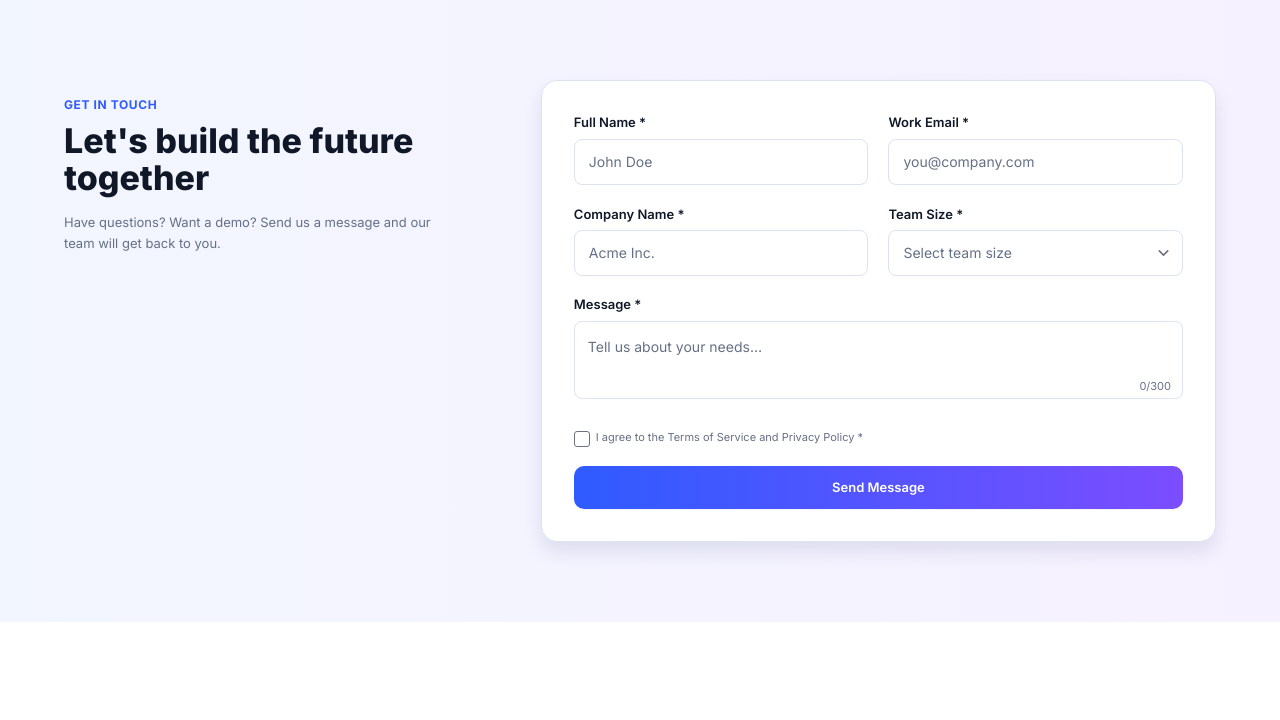
Scenario: Contact › validation › shows an error once a field is left empty, before submitting
The width and height of the screenshot is (1280, 720).
Click the field labelled "Full Name".
click(721, 162)  # box [574, 138, 868, 184]
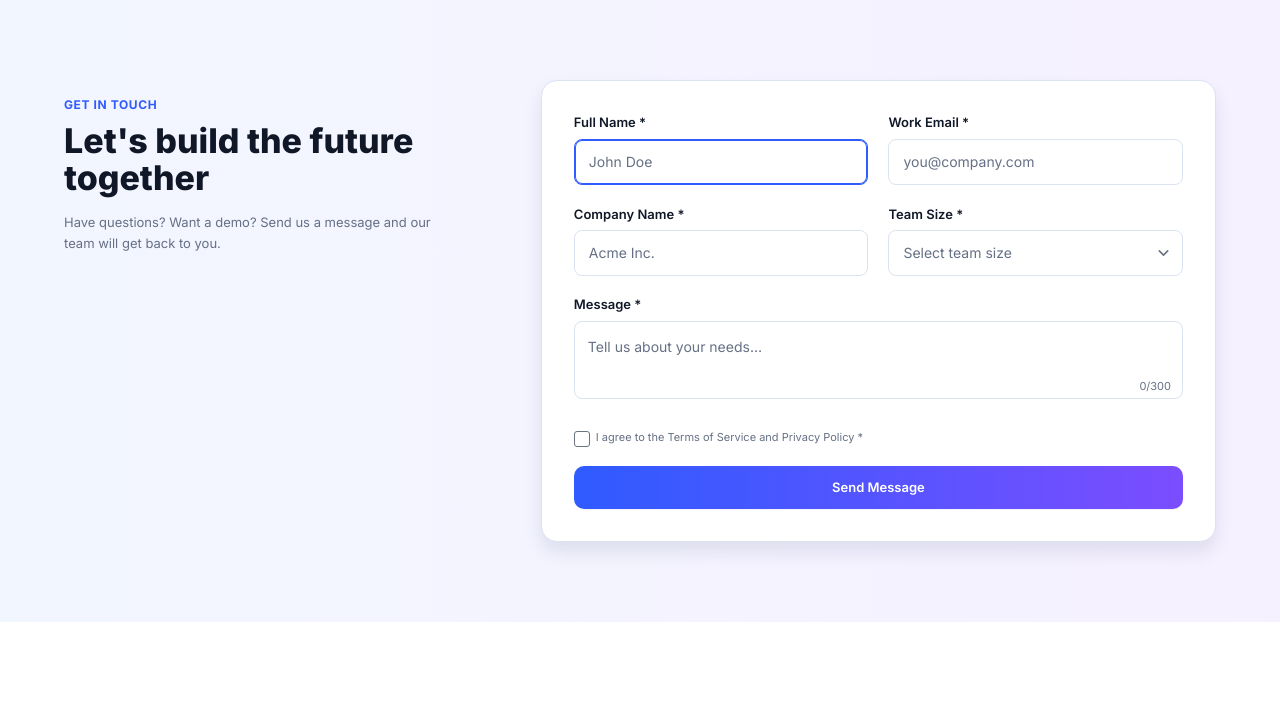
Press Tab
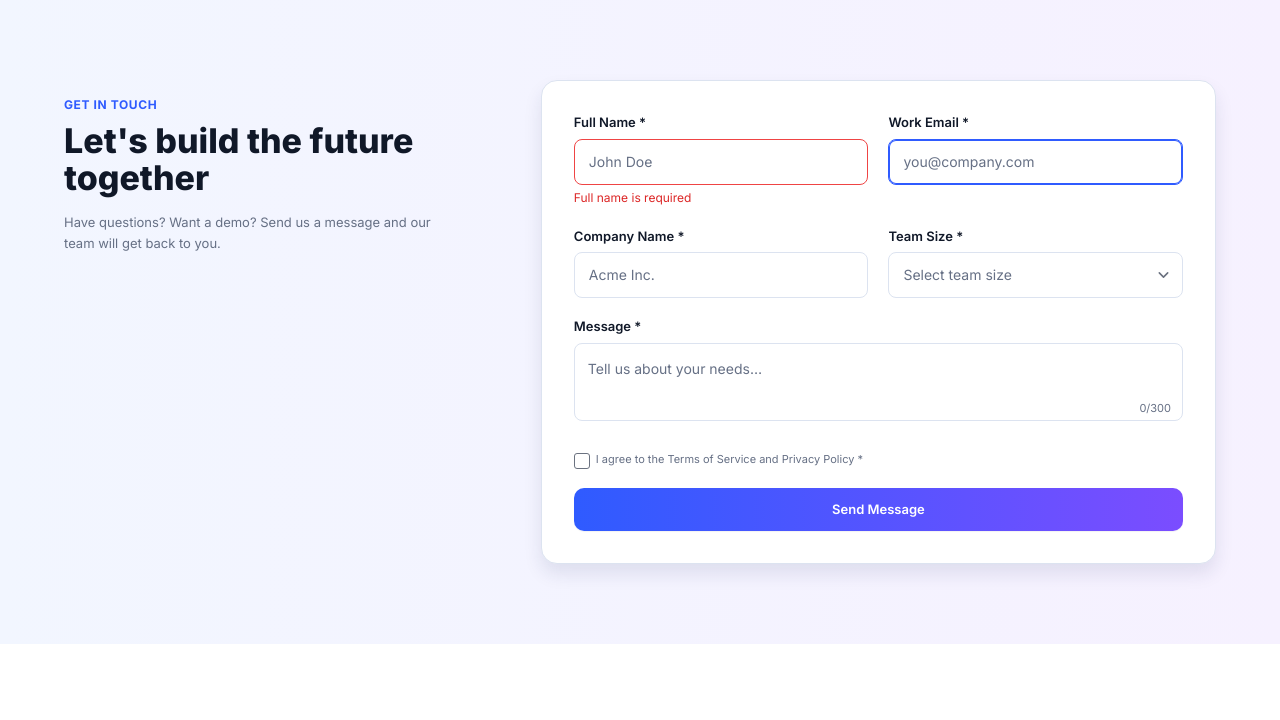
Result: the text "Full name is required" is shown at [574, 190, 691, 204]
